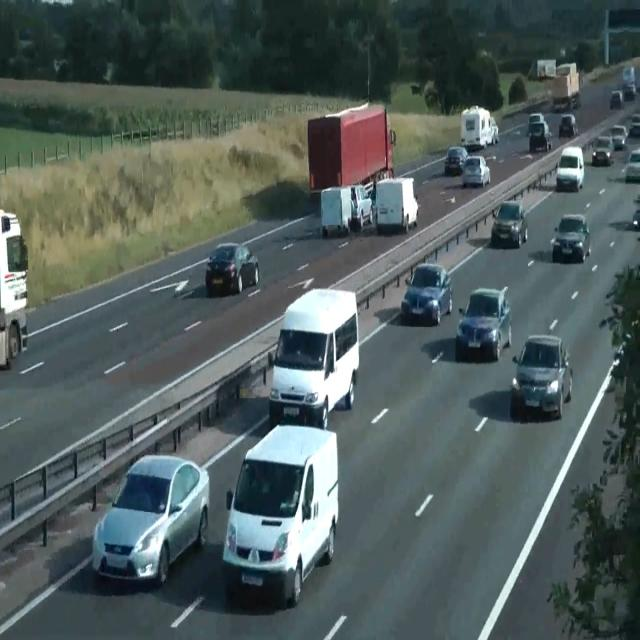bus: (456, 285, 512, 361), (400, 262, 452, 326), (205, 242, 259, 296), (491, 200, 527, 248), (461, 154, 491, 188), (591, 134, 613, 166), (444, 146, 468, 175), (622, 148, 640, 182), (559, 113, 577, 138), (527, 112, 544, 136), (626, 113, 640, 138), (609, 90, 623, 108), (490, 116, 498, 144), (632, 208, 640, 228)
jeep: (221, 422, 339, 606), (91, 452, 209, 586), (268, 286, 359, 428), (510, 334, 572, 419), (550, 212, 590, 262), (556, 145, 584, 191), (350, 184, 372, 228), (528, 120, 552, 152), (609, 124, 627, 150)
minibus: (307, 102, 396, 196), (0, 208, 28, 370), (320, 184, 372, 236), (374, 177, 418, 234), (460, 105, 498, 150), (550, 61, 580, 112), (528, 58, 556, 81), (622, 66, 636, 94)
